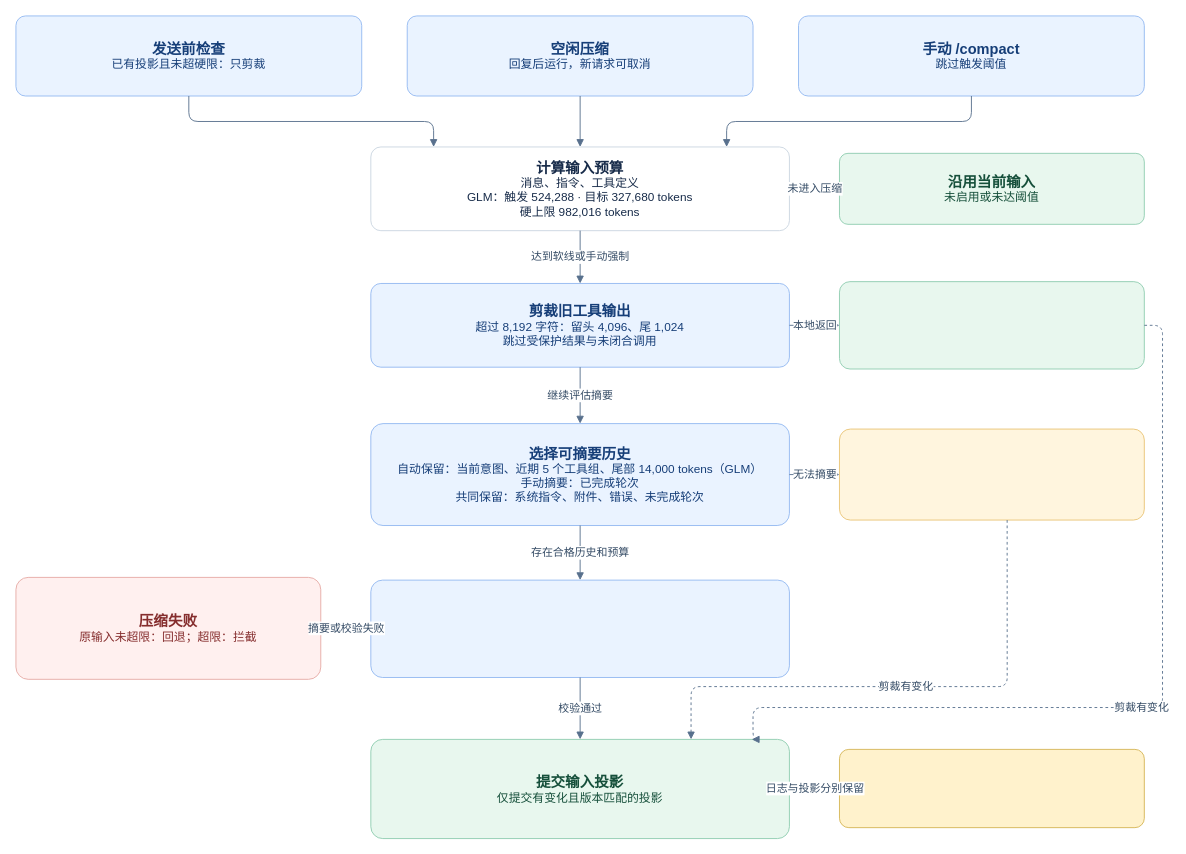
Image size: 1186x854. Some labels were removed from this diagram. Here are the shapes that lost their labels. From the top down, the centre of each, then its label:
At point 991,325: "返回剪裁结果 仅剪裁模式，或自动压缩已达目标".
At point 991,474: "无安全范围或预算不足 在硬上限内返回剪裁结果或原输入".
At point 579,628: "生成摘要并校验 8 类信息及来源引用 GLM：至多 2 次，每次最多 4,096 tokens 校验版本、工具配对与预算".
At point 991,788: "原始会话日志 保留完整记录".
